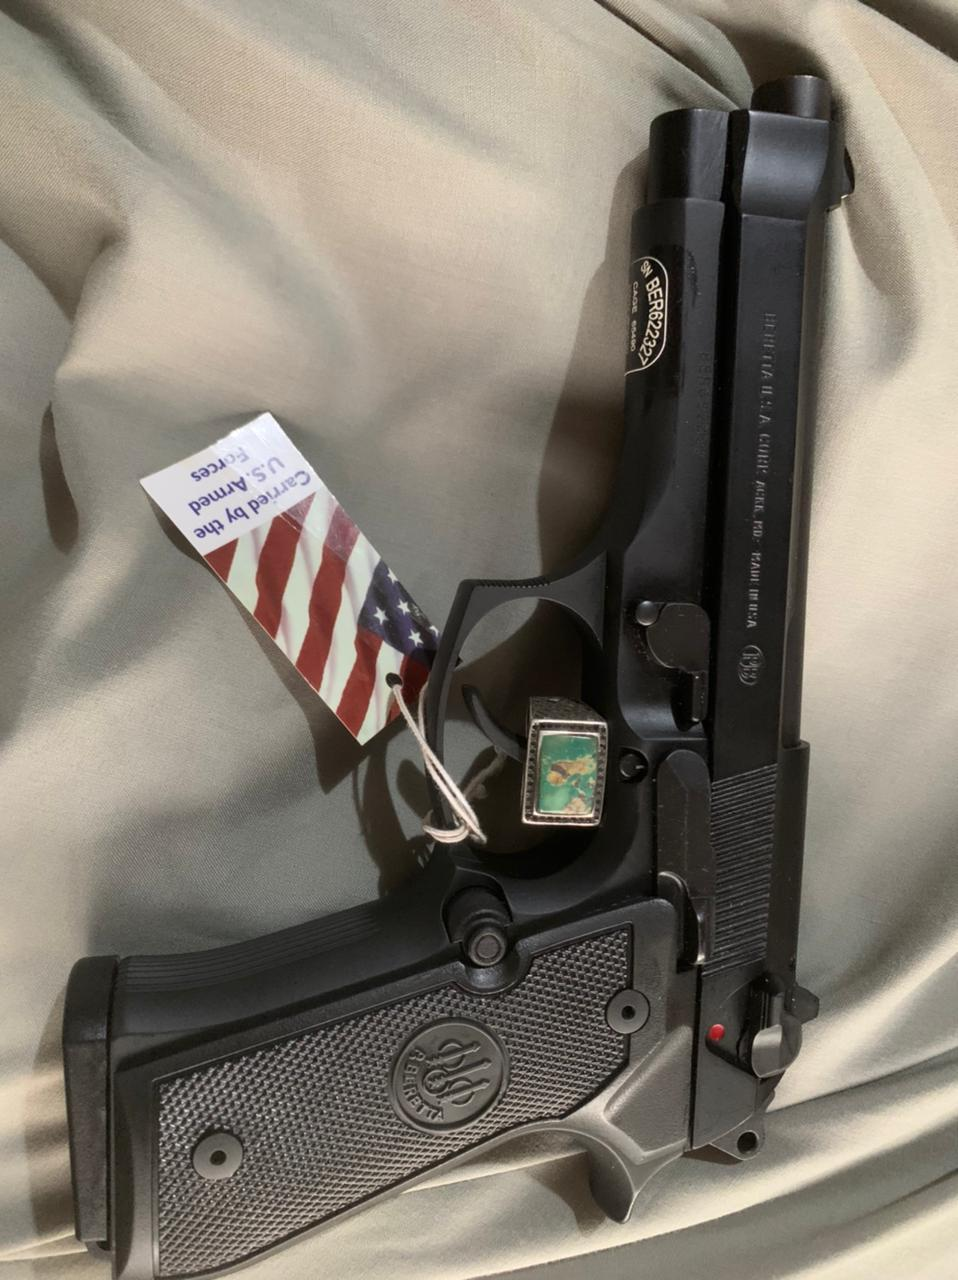weapon: (63, 71, 858, 1280)
